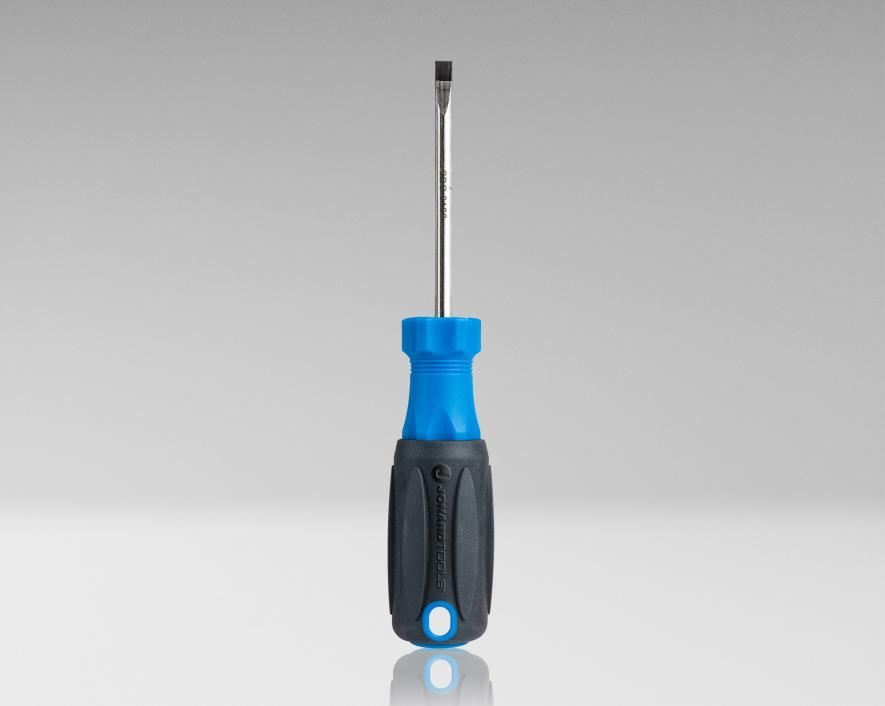Screwdriver: (358, 45, 540, 660)
